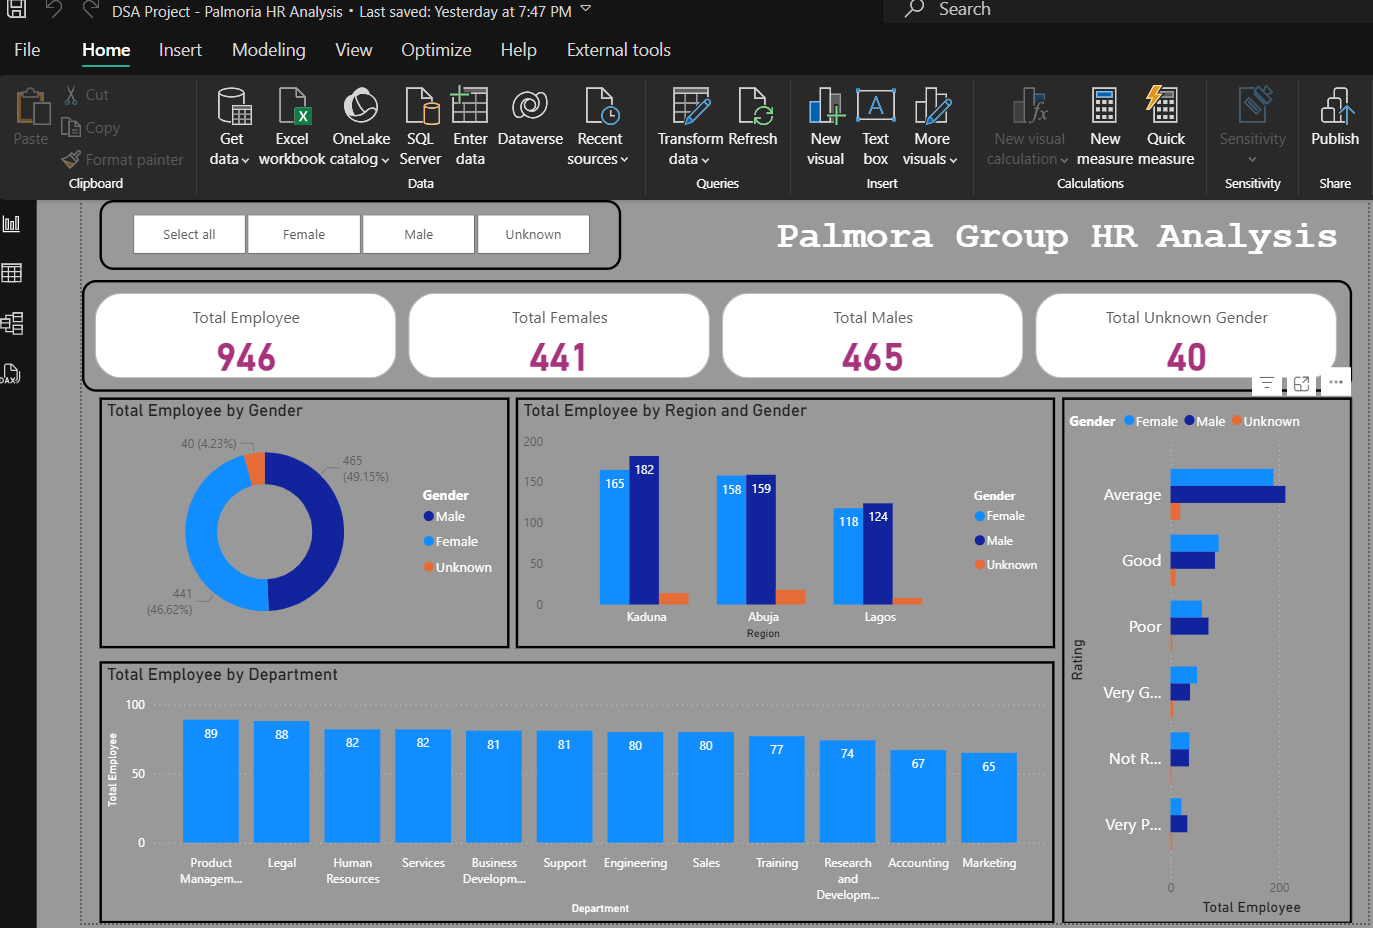

What the dashboard file says about the page in this screenshot:
{"tool":"powerbi","page":{"name":"Page 1","canvas":[1280,720],"ordinal":0},"visuals":[{"type":"slicer","fields":{"Values":["Gender.Gender"]},"box":[17.3,0,519.4,69.3],"z":0},{"type":"textbox","box":[685.3,11.5,578.5,57.7],"z":1000},{"type":"donutChart","fields":{"Category":["Gender.Gender"],"Y":["Palmoria Group emp-data.Total Employee"]},"box":[17.3,195.9,408.3,249.6],"z":2000},{"type":"cardVisual","fields":{"Data":["Palmoria Group emp-data.Total Employee","Palmoria Group emp-data.Total Females","Palmoria Group emp-data.Total Males","Palmoria Group emp-data.Total Unknown"]},"box":[0,79.4,1263.9,111.1],"z":3000},{"type":"clusteredColumnChart","fields":{"Y":["Palmoria Group emp-data.Total Employee"],"Category":["Regions.Region"],"Series":["Gender.Gender"]},"box":[431.4,196.2,536.7,249.6],"z":4000},{"type":"clusteredBarChart","fields":{"Category":["Rating.Rating"],"Series":["Gender.Gender"],"Y":["Palmoria Group emp-data.Total Employee"]},"box":[975.3,196.2,288.6,523.7],"z":5000},{"type":"clusteredColumnChart","fields":{"Category":["Department.Department"],"Y":["Palmoria Group emp-data.Total Employee"]},"box":[17.3,458.8,950.8,261.1],"z":6000}]}

Visuals, with their boxes in screenshot pixels (x1, y1, x2, y2):
slicer - Gender.Gender: <region>78, 193, 608, 264</region>
textbox: <region>760, 205, 1350, 264</region>
donutChart - Gender.Gender x Palmoria Group emp-data.Total Employee: <region>78, 393, 495, 648</region>
cardVisual - Palmoria Group emp-data.Total Employee x Palmoria Group emp-data.Total Females: <region>61, 274, 1350, 387</region>
clusteredColumnChart - Palmoria Group emp-data.Total Employee x Regions.Region: <region>501, 393, 1049, 648</region>
clusteredBarChart - Rating.Rating x Gender.Gender: <region>1056, 393, 1350, 927</region>
clusteredColumnChart - Department.Department x Palmoria Group emp-data.Total Employee: <region>78, 661, 1049, 927</region>
